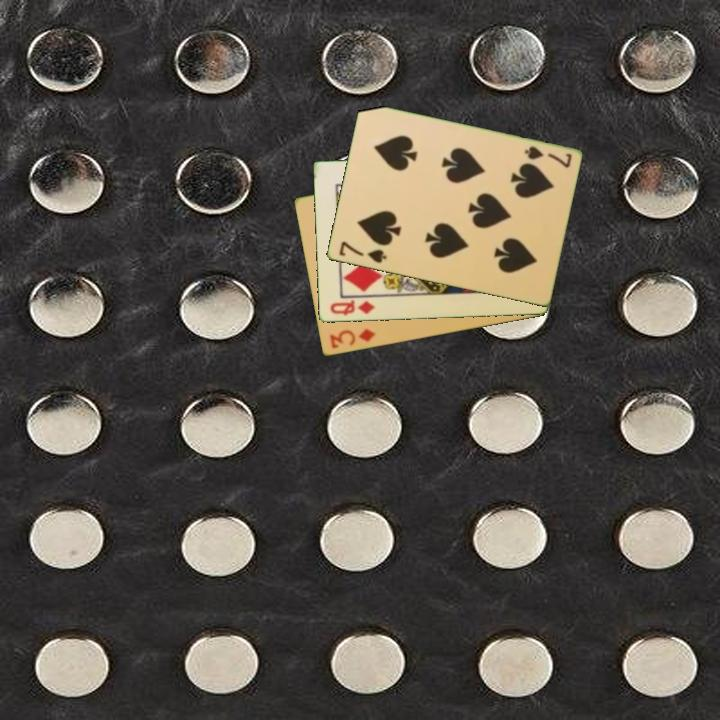3d: (326, 326, 378, 352)
7s: (335, 238, 389, 266), (521, 143, 574, 171)
Qd: (326, 296, 378, 319)
